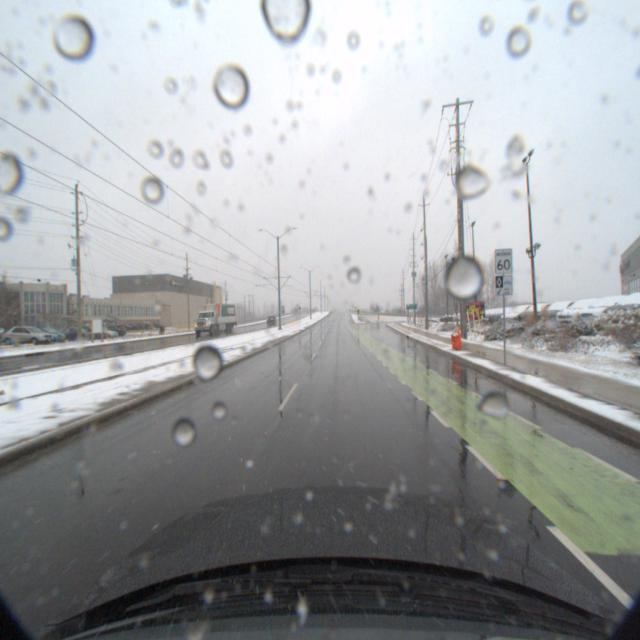Car: (544, 296, 624, 328), (524, 298, 593, 327), (492, 303, 546, 328)
Truck: (190, 301, 238, 334)
